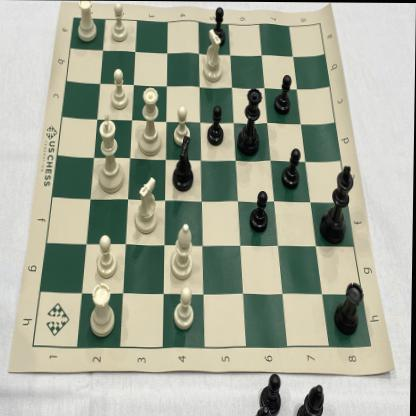black-king: (319, 161, 356, 247)
black-knight: (171, 135, 197, 193)
black-pawn: (248, 187, 271, 233), (281, 146, 303, 191), (205, 103, 227, 147), (274, 72, 294, 118), (212, 4, 226, 45)
black-queen: (237, 85, 264, 159)
black-rook: (333, 273, 366, 339)
white-bishop: (171, 220, 196, 281)
white-king: (94, 111, 127, 193)
white-knight: (134, 173, 160, 234), (202, 27, 225, 83)
white-pawn: (171, 285, 197, 331), (95, 233, 120, 279), (108, 67, 130, 111), (109, 1, 130, 43), (173, 104, 192, 146)
white-queen: (138, 82, 164, 158)
white-rook: (87, 281, 120, 339), (76, 0, 98, 44)
